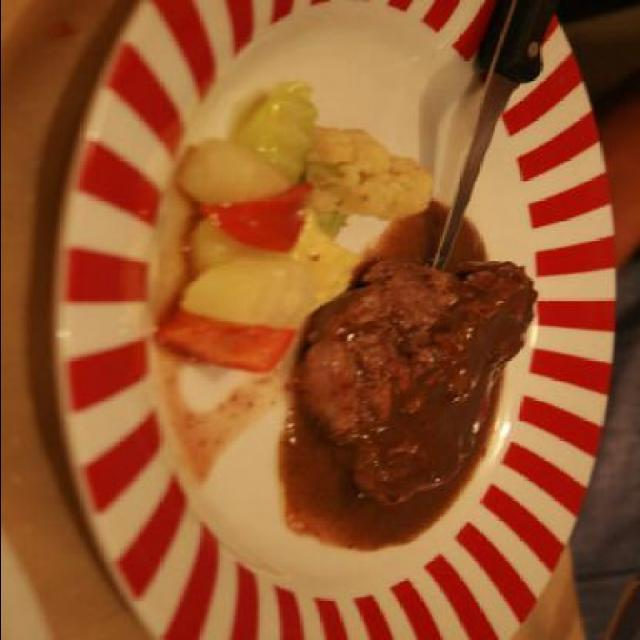Steak: (253, 223, 565, 539)
